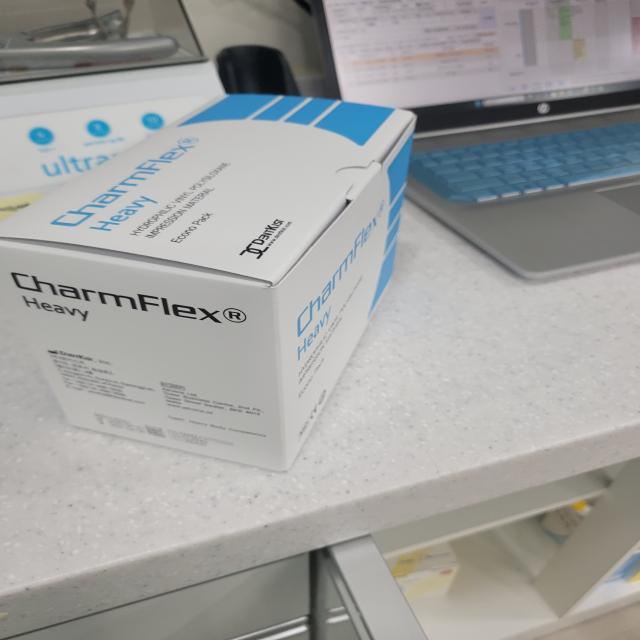impression: (0, 80, 487, 502)
